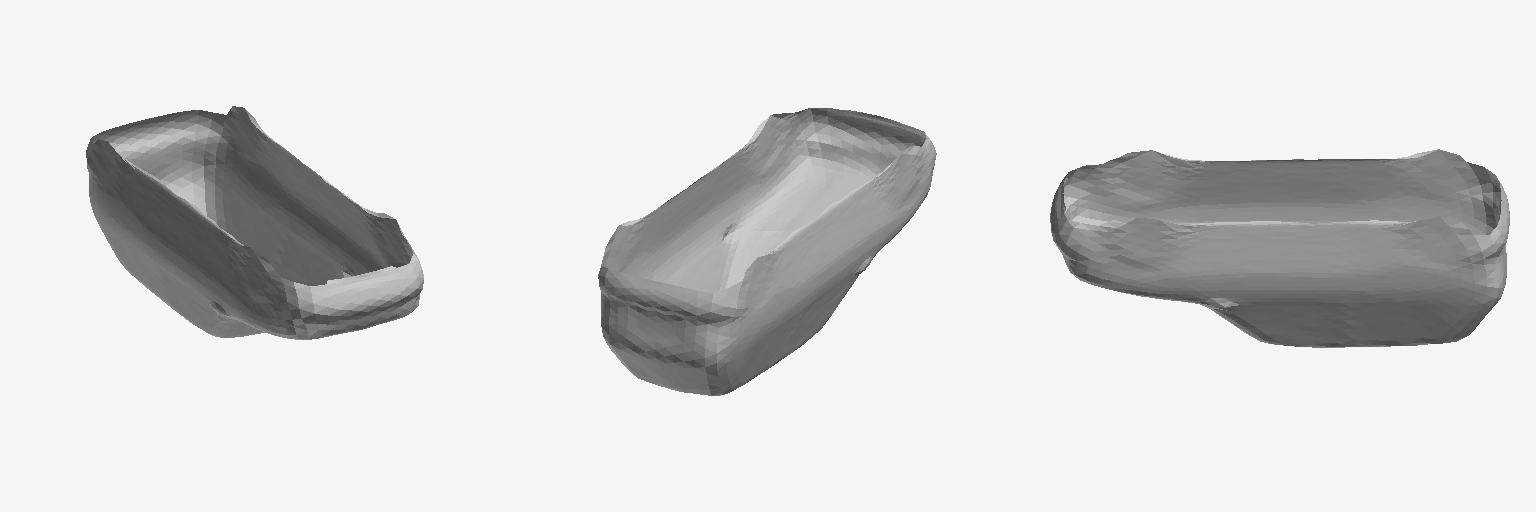
Rendered from fiat_deformed2.obj.
3 renders of one model, left to right at view 1: azimuth 30°, elevation 25°; view 2: azimuth 150°, elevation 25°; view 3: azimuth 270°, elevation 25°, orthographic.
Parts seen in each view (by area): view 1: fiat_deformed; view 2: fiat_deformed; view 3: fiat_deformed.
Part boxes in pixels (bbox=[...]): fiat_deformed: bbox=[86, 106, 423, 339]; fiat_deformed: bbox=[598, 108, 936, 395]; fiat_deformed: bbox=[1050, 149, 1509, 347].
Size of the model in its own units: 1.39 by 1.36 by 3.86.